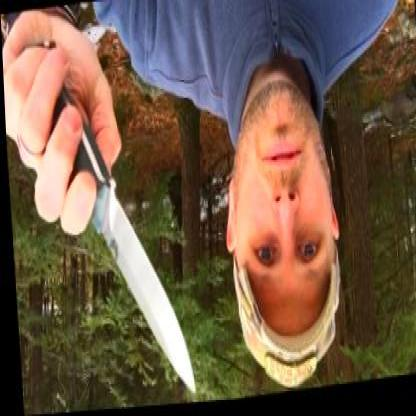knife: (37, 89, 196, 412)
